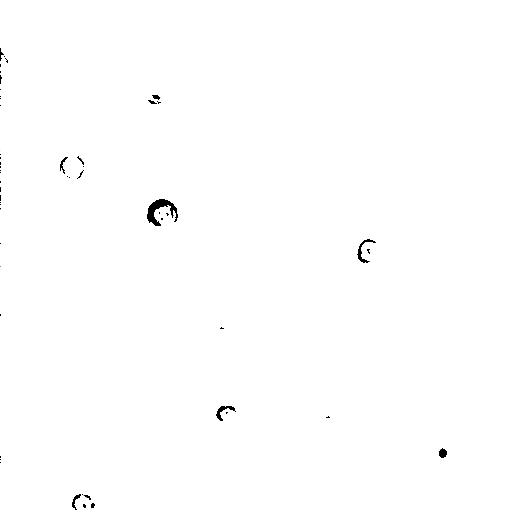micro-algae: (463, 162, 512, 237), (425, 433, 459, 472), (145, 197, 179, 231), (59, 150, 86, 182), (210, 73, 240, 101), (357, 237, 381, 265), (69, 492, 97, 512), (215, 403, 238, 422), (1, 49, 9, 76)
